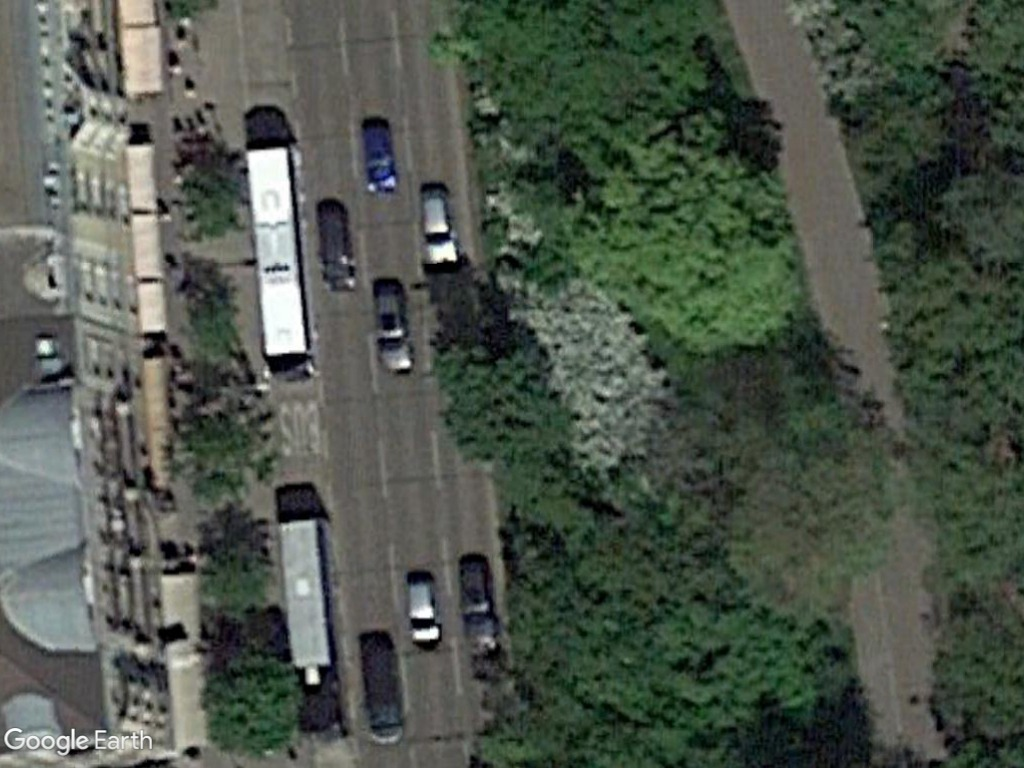bus: (243, 142, 316, 363), (277, 514, 346, 742)
car: (416, 184, 464, 274), (373, 281, 416, 380), (402, 572, 447, 650)
